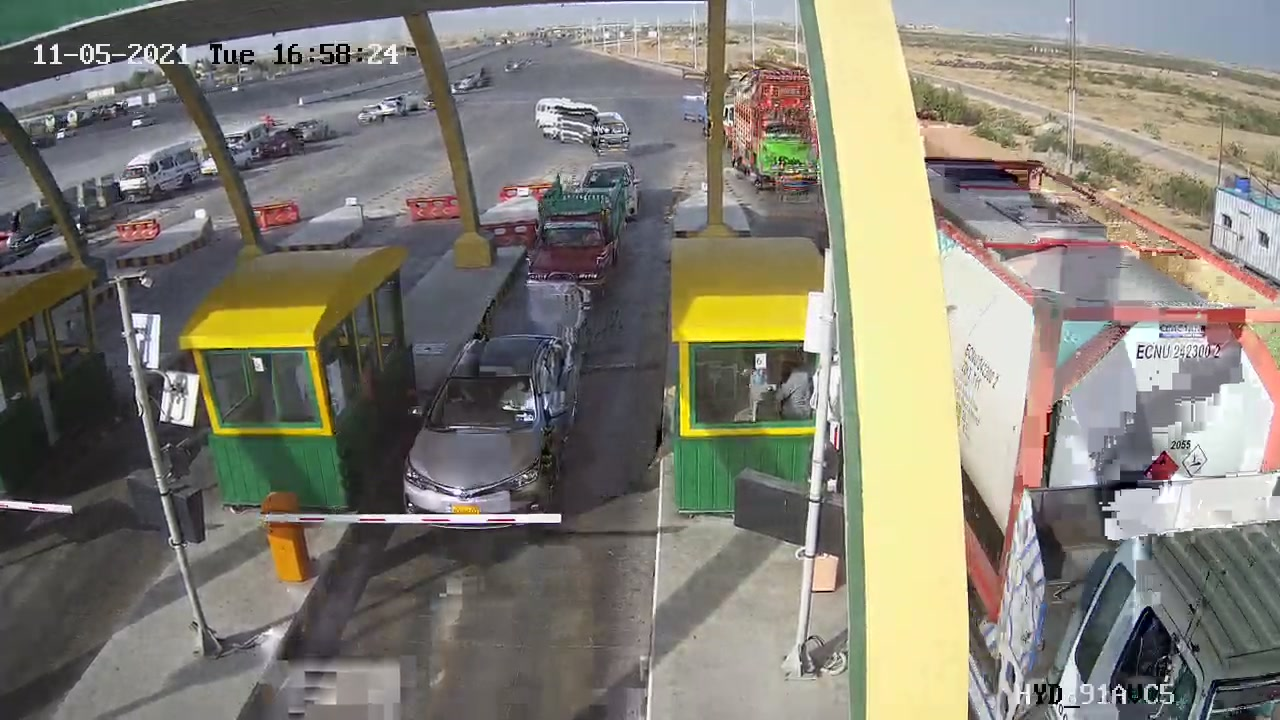F1: (383, 319, 607, 549)
